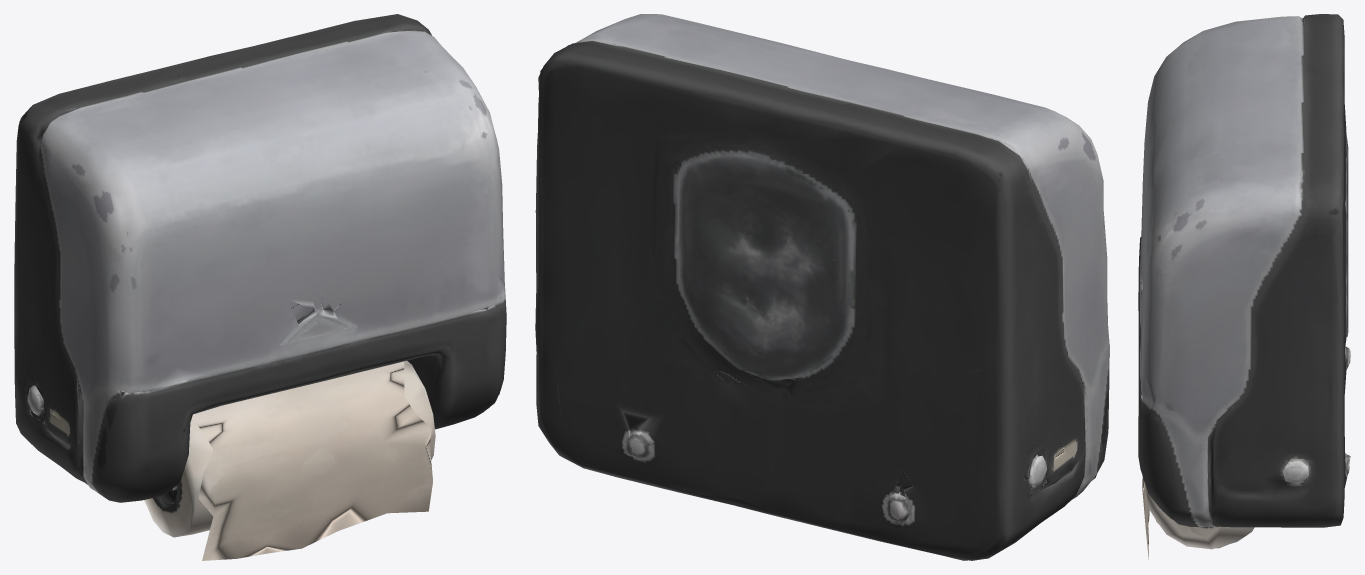
The model's file is universitytoilet_PaperTowelDispenser.glb.
3 views of the same model, side by side, from view 1: azimuth 30°, elevation 25°; view 2: azimuth 150°, elevation 25°; view 3: azimuth 270°, elevation 25° (orthographic). The views are drawn at different scales.
Visible parts, largest first — view 1: world; view 2: world; view 3: world.
Part boxes in pixels (<box>): world: <box>14,14,506,560</box>; world: <box>535,14,1109,560</box>; world: <box>1138,14,1350,559</box>.
Size of the model in its own units: 0.9985 by 0.966 by 0.448.
Materials: 1 (1 with a texture image).
